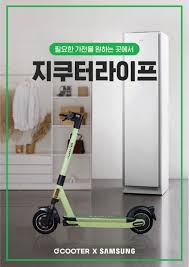kick_board: (32, 111, 157, 233)
kick_body: (72, 215, 127, 229)
kick_handler: (60, 111, 84, 129)
kick_neck: (54, 133, 77, 197)
kick_wheel: (128, 207, 152, 232), (33, 207, 56, 231)
